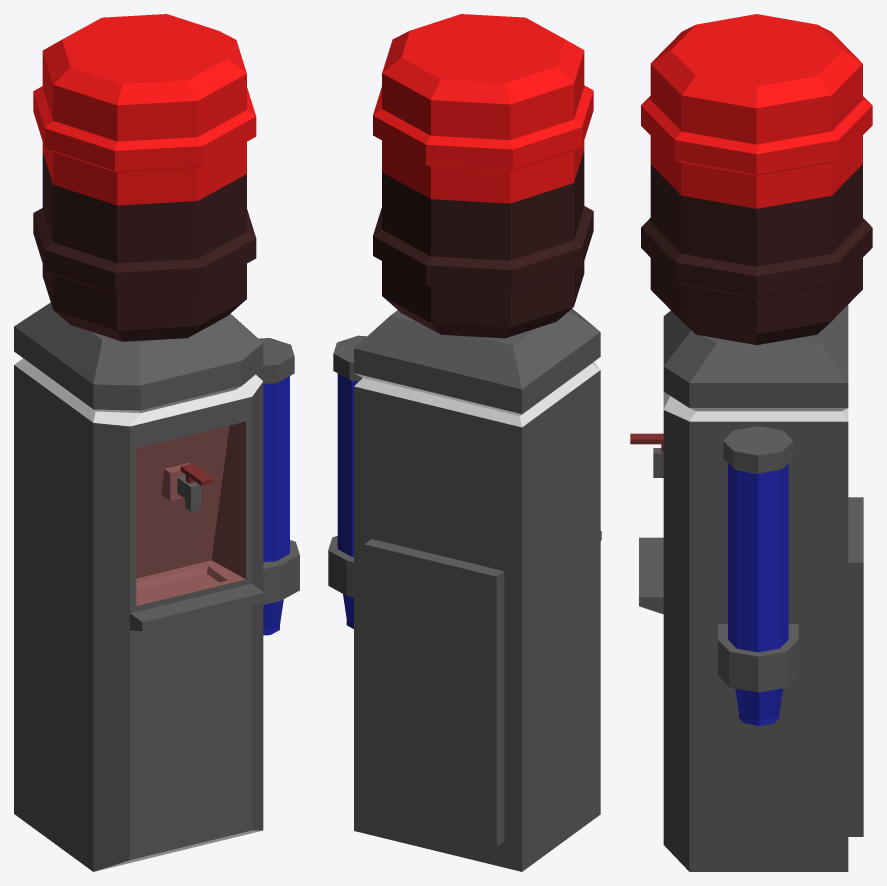
File: WaterCooler_02.fbx
3 views of the same model, side by side, from view 1: azimuth 30°, elevation 25°; view 2: azimuth 150°, elevation 25°; view 3: azimuth 270°, elevation 25° (orthographic).
Parts seen in each view (by area): view 1: SM_Prop_WaterCooler_01; view 2: SM_Prop_WaterCooler_01; view 3: SM_Prop_WaterCooler_01.
Boxes of the visible parts, x1,y1,x2,y2 form: SM_Prop_WaterCooler_01: (14, 14, 299, 871); SM_Prop_WaterCooler_01: (328, 14, 601, 871); SM_Prop_WaterCooler_01: (630, 14, 872, 871).
Size of the model in its own units: 56.96 by 168 by 47.27.
